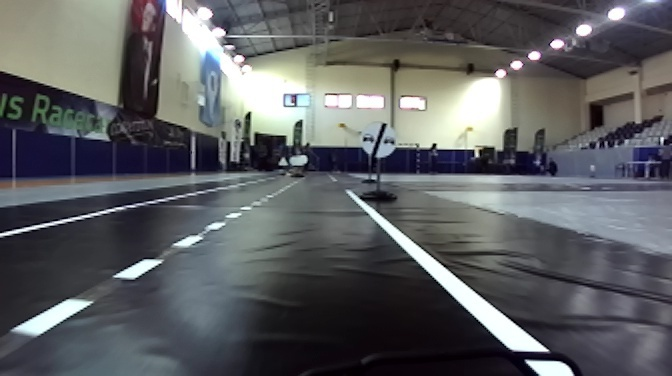sollama_serbest: (358, 123, 397, 158)
